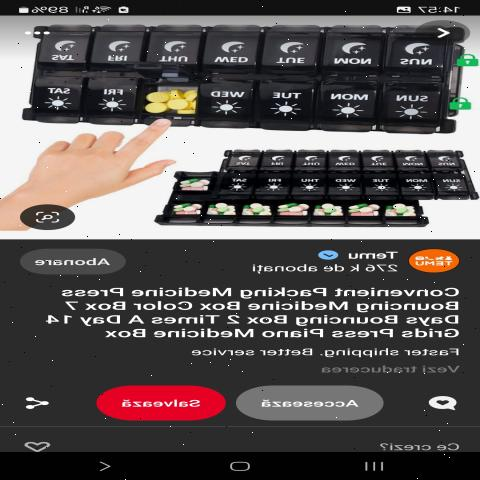PillBox: (1, 21, 467, 130), (130, 141, 478, 233)
